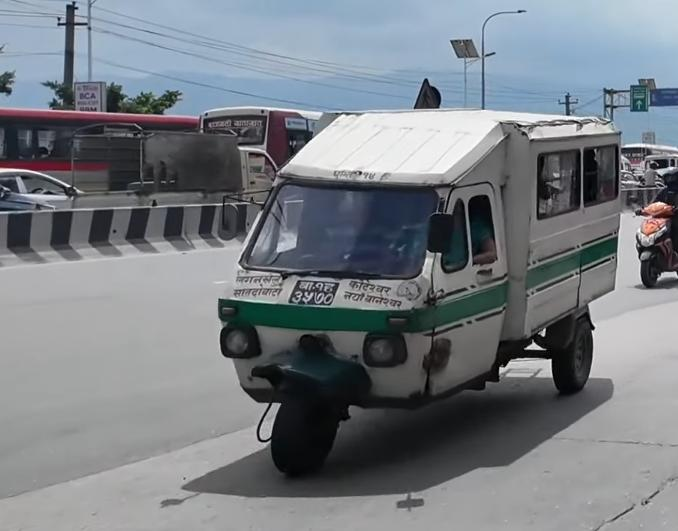scooter: (632, 193, 678, 290)
tempo: (182, 98, 633, 479)
